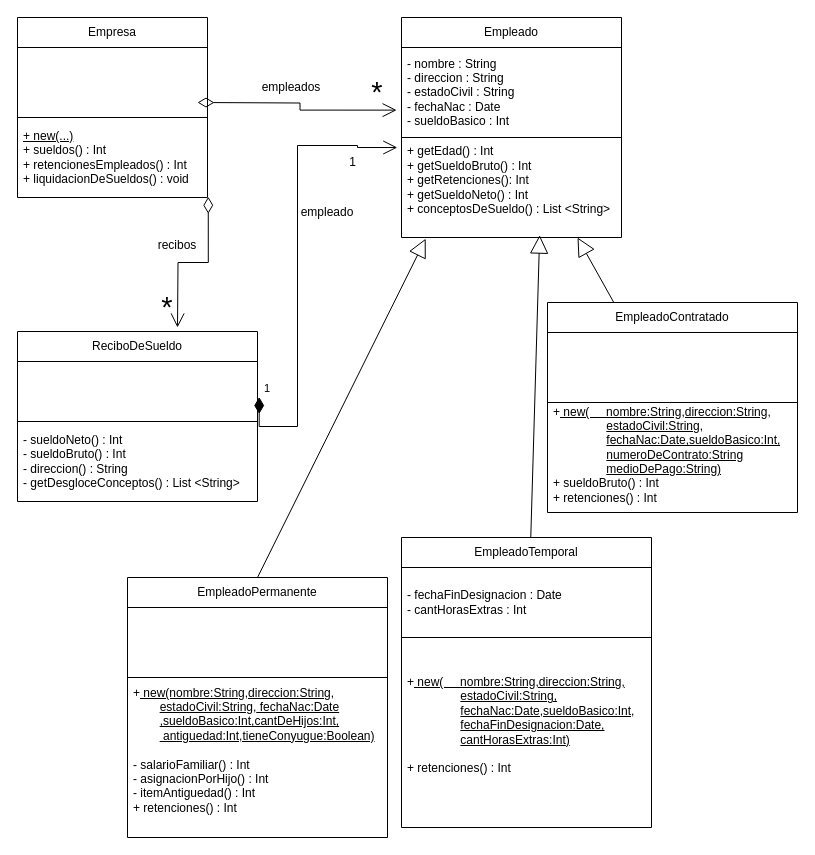
Some shapes in this 815 by 855 pixel diagram are drawn without their labels. Here are the shapes that lost their labels. From the top down, the centre of each, then its label:
the point at 112,82: - nombre : String - cuit : String
the point at 672,367: - numeroContrato : String - medioDePago : String
the point at 137,391: - fechaEmision : Date - desgloceDeConceptos : <List>
the point at 257,642: - cantDeHijos : Int - antiguedad : Int - tieneConyugue : Boolean
